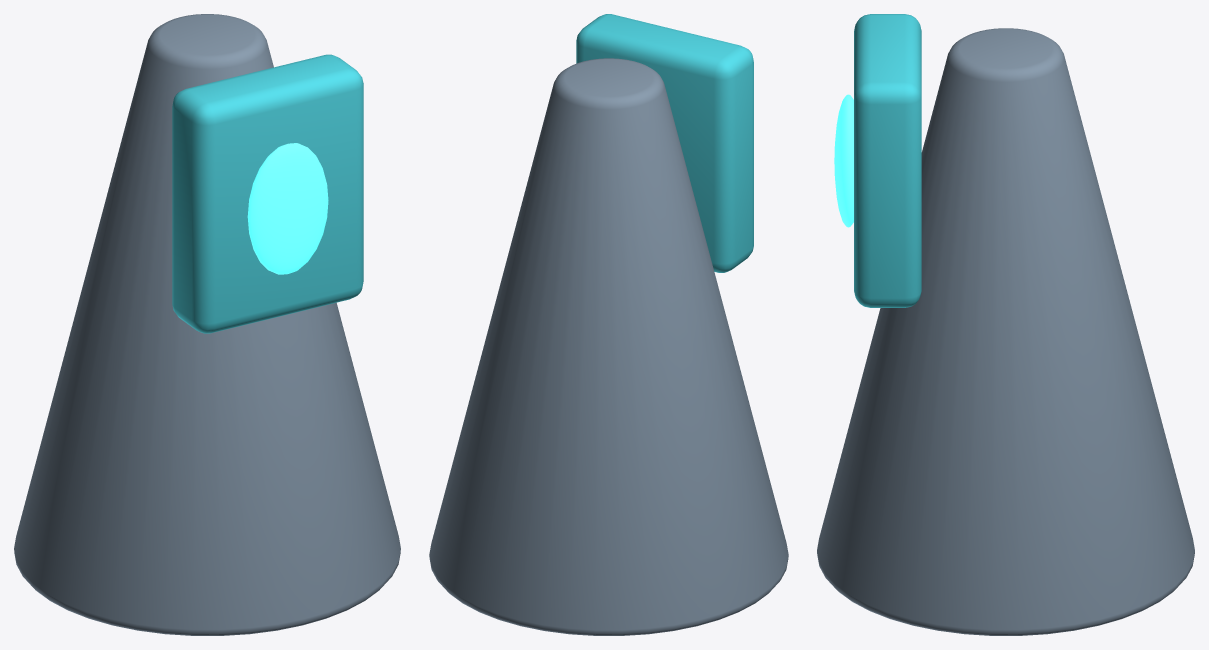
The model's file is wraith_v7.glb.
3 renders of one model, left to right at view 1: azimuth 30°, elevation 25°; view 2: azimuth 150°, elevation 25°; view 3: azimuth 270°, elevation 25°, orthographic. The views are drawn at different scales.
Visible parts, largest first — view 1: LANTERN_SPIRIT_PRIMARY, SPIRIT_LANTERN_ACCENT, SPIRIT_FLAME_EMISSIVE; view 2: LANTERN_SPIRIT_PRIMARY, SPIRIT_LANTERN_ACCENT; view 3: LANTERN_SPIRIT_PRIMARY, SPIRIT_LANTERN_ACCENT, SPIRIT_FLAME_EMISSIVE.
Boxes of the visible parts, x1=… form: LANTERN_SPIRIT_PRIMARY: x1=14, y1=14, x2=400, y2=635; SPIRIT_LANTERN_ACCENT: x1=172, y1=54, x2=363, y2=333; SPIRIT_FLAME_EMISSIVE: x1=247, y1=143, x2=328, y2=274; LANTERN_SPIRIT_PRIMARY: x1=429, y1=58, x2=788, y2=635; SPIRIT_LANTERN_ACCENT: x1=576, y1=14, x2=753, y2=272; LANTERN_SPIRIT_PRIMARY: x1=817, y1=28, x2=1194, y2=635; SPIRIT_LANTERN_ACCENT: x1=854, y1=14, x2=921, y2=307; SPIRIT_FLAME_EMISSIVE: x1=834, y1=94, x2=853, y2=227.
Bounding box in the file's own units: 1.34 × 2 × 1.34.
